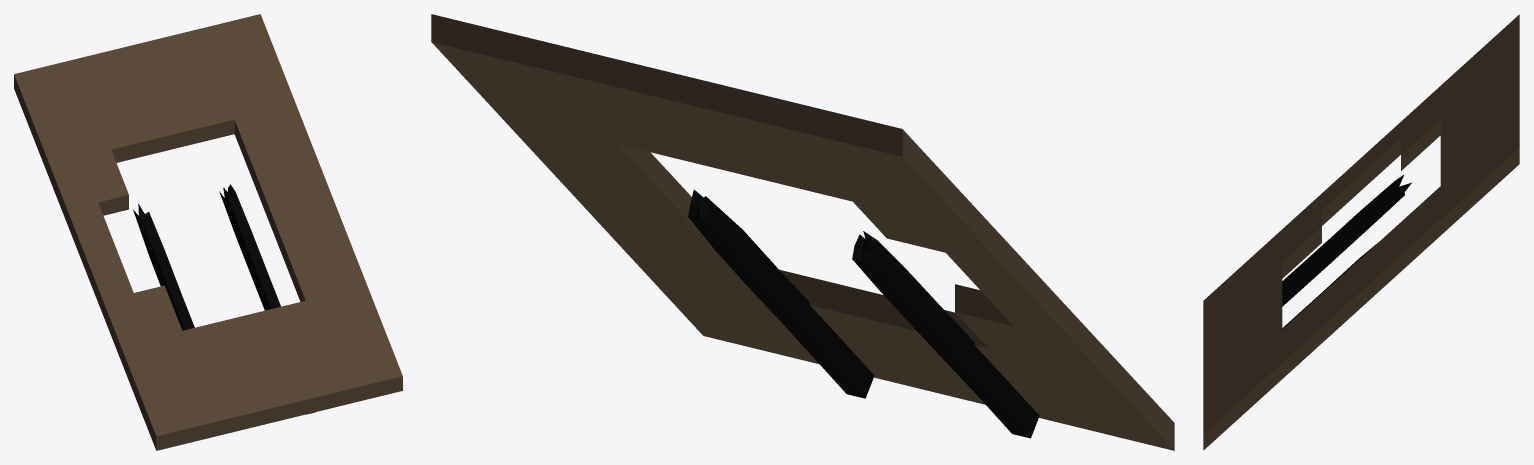
File: dach_2x2_kaputt.glb
3 views of the same model, side by side, from view 1: azimuth 30°, elevation 25°; view 2: azimuth 150°, elevation 25°; view 3: azimuth 270°, elevation 25° (orthographic). The views are drawn at different scales.
Visible parts, largest first — view 1: dach_2x2_kaputt; view 2: dach_2x2_kaputt; view 3: dach_2x2_kaputt.
Part boxes in pixels (left/top/right/bottom): dach_2x2_kaputt: left=14, top=14, right=402, bottom=450; dach_2x2_kaputt: left=431, top=14, right=1174, bottom=450; dach_2x2_kaputt: left=1203, top=14, right=1519, bottom=450.
Size of the model in its own units: 2 by 2.16 by 2.
